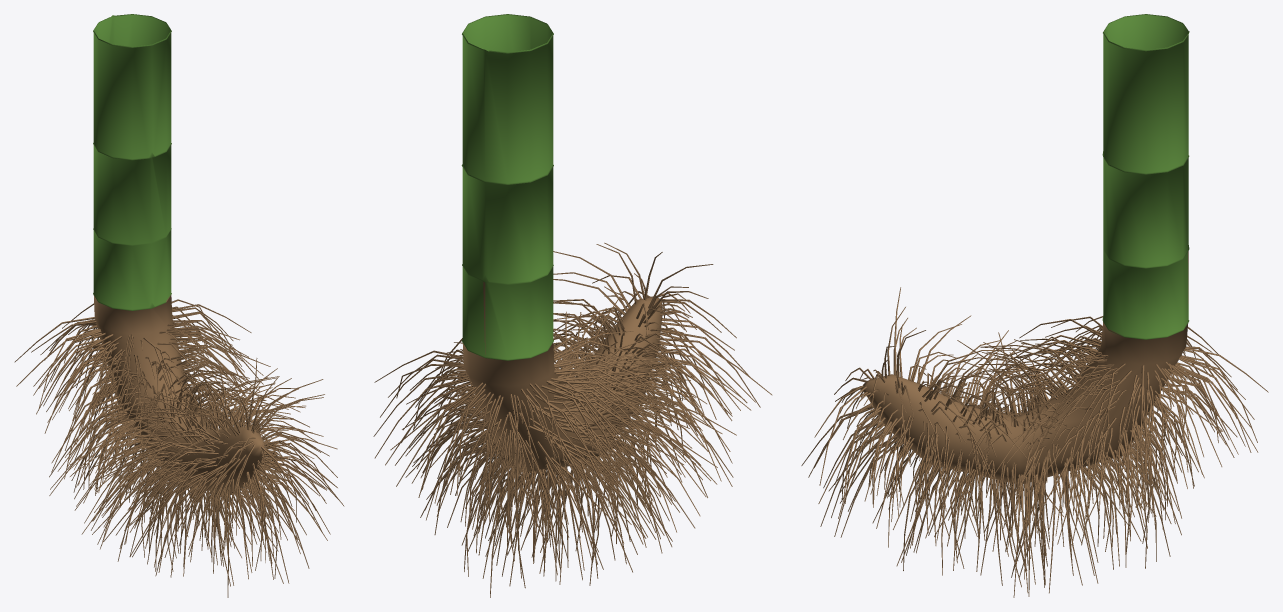
File: akar serabut.glb
The picture shows the model from 3 angles, left to right: view 1: azimuth 30°, elevation 25°; view 2: azimuth 150°, elevation 25°; view 3: azimuth 270°, elevation 25°; orthographic projection. The views are drawn at different scales.
Parts seen in each view (by area): view 1: bamboo_cut; view 2: bamboo_cut; view 3: bamboo_cut.
Boxes of the visible parts, <box> form: bamboo_cut: <box>14,14,344,597</box>; bamboo_cut: <box>373,14,772,597</box>; bamboo_cut: <box>801,14,1268,597</box>.
Size of the model in its own units: 34.71 by 71.76 by 54.86.
